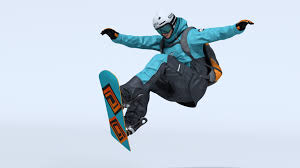snowboarder: (94, 6, 257, 153)
